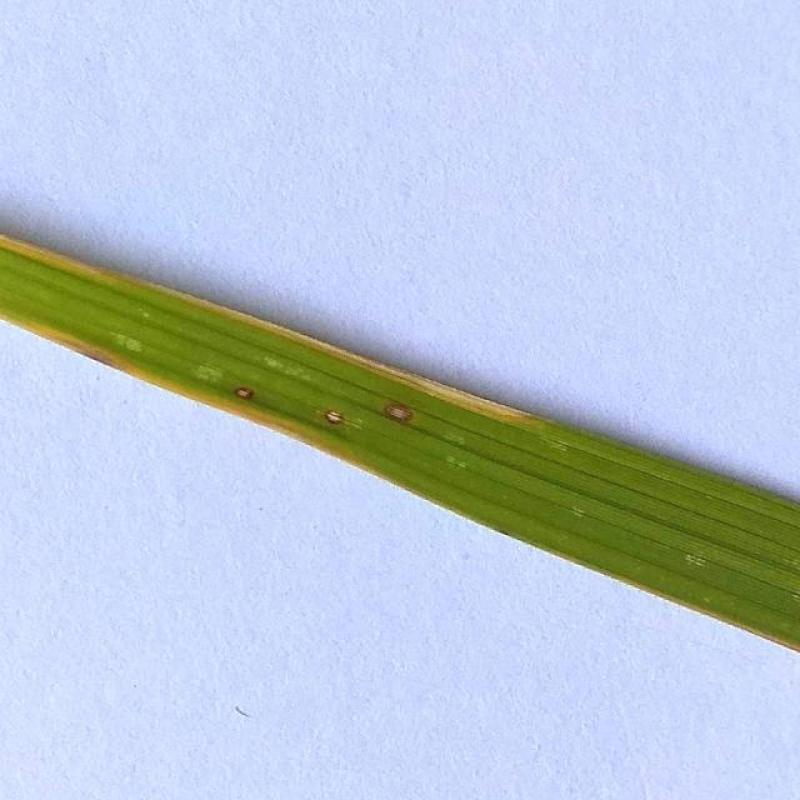Leaf_Blast: (364, 348, 561, 460), (195, 356, 357, 465), (300, 378, 449, 462)
